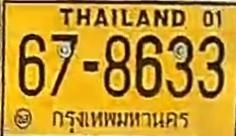3: (165, 35, 193, 97), (197, 35, 224, 98)
6: (135, 34, 162, 96), (18, 33, 45, 95)
7: (50, 33, 77, 96)
8: (103, 34, 130, 96)
BKK: (48, 103, 192, 134)
